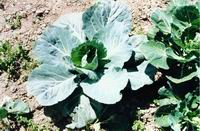cabbage: (71, 39, 106, 83)
